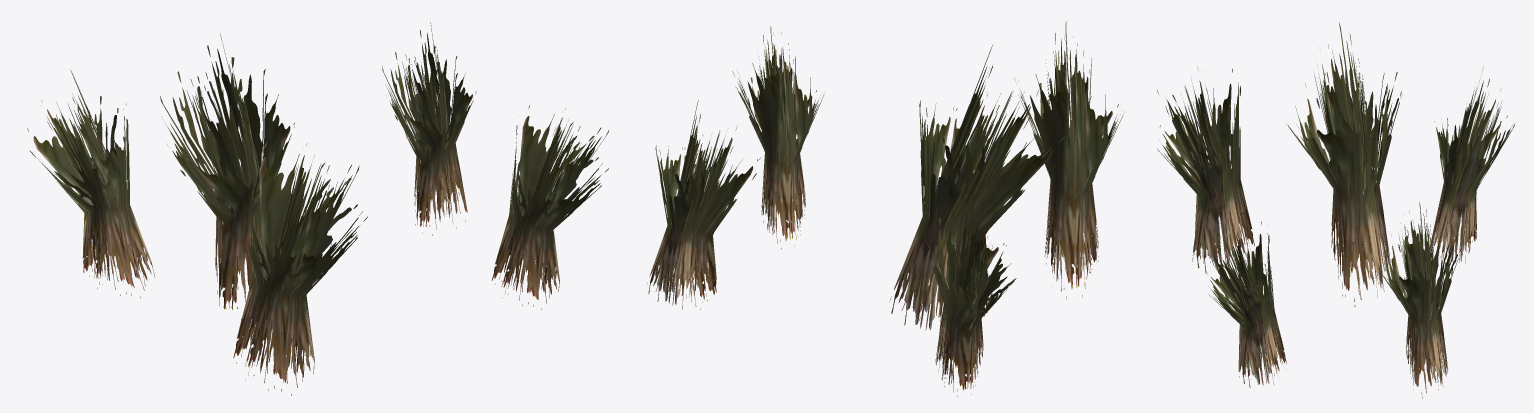
The picture shows the model from 3 angles, left to right: view 1: azimuth 30°, elevation 25°; view 2: azimuth 150°, elevation 25°; view 3: azimuth 270°, elevation 25°; orthographic projection. The views are drawn at different scales.
Visible parts, largest first — view 1: Tree09; view 2: Tree09; view 3: Tree09.
Part boxes in pixels (x1,y1,x2,y2): Tree09: (27, 22, 608, 395); Tree09: (647, 21, 1124, 397); Tree09: (1157, 22, 1514, 398).
Bounding box in the file's own units: 280 × 192 × 241.
